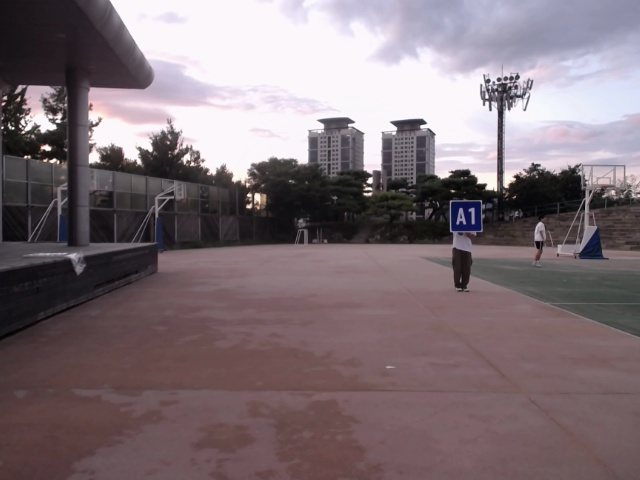delivery_a1: (450, 200, 482, 233)
